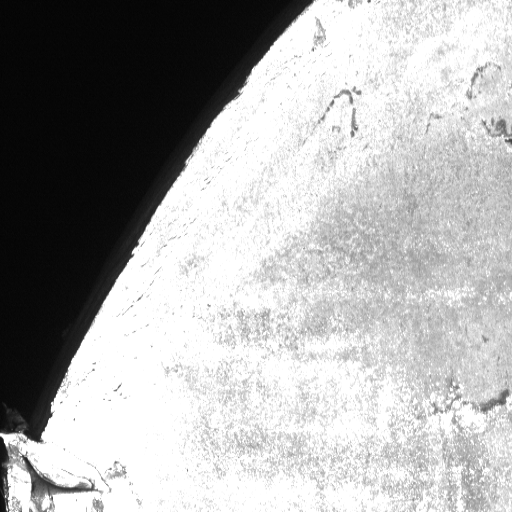qiaopi: (1, 402, 117, 511)
